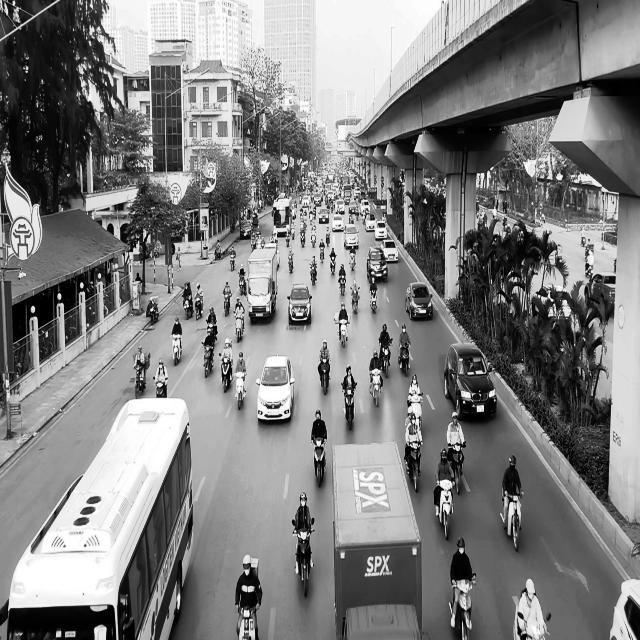bus: (6, 396, 194, 640)
car: (444, 342, 496, 420), (255, 354, 295, 422), (609, 578, 640, 639), (584, 272, 615, 311), (405, 281, 433, 320), (287, 283, 312, 325), (366, 246, 388, 282)
motorbike: (449, 574, 476, 640), (292, 519, 314, 596), (501, 488, 524, 551), (513, 604, 551, 639), (434, 479, 454, 540), (447, 443, 466, 494), (404, 441, 423, 492), (311, 437, 327, 487), (236, 604, 258, 640), (341, 382, 357, 430), (218, 352, 232, 393), (318, 354, 331, 396), (369, 368, 383, 407), (408, 392, 423, 428), (201, 340, 215, 378), (379, 339, 392, 377), (234, 371, 247, 409), (337, 314, 350, 348), (398, 342, 410, 376), (134, 362, 146, 394), (171, 333, 182, 366), (153, 375, 168, 398), (234, 312, 244, 342), (350, 286, 360, 314), (182, 294, 193, 319), (149, 297, 159, 323), (369, 283, 377, 312), (223, 292, 231, 316), (309, 262, 317, 286), (195, 296, 203, 319), (338, 273, 346, 295), (238, 273, 246, 295), (288, 249, 294, 273), (329, 254, 336, 274), (230, 252, 236, 271)
truck: (331, 441, 423, 639), (247, 242, 279, 324)
